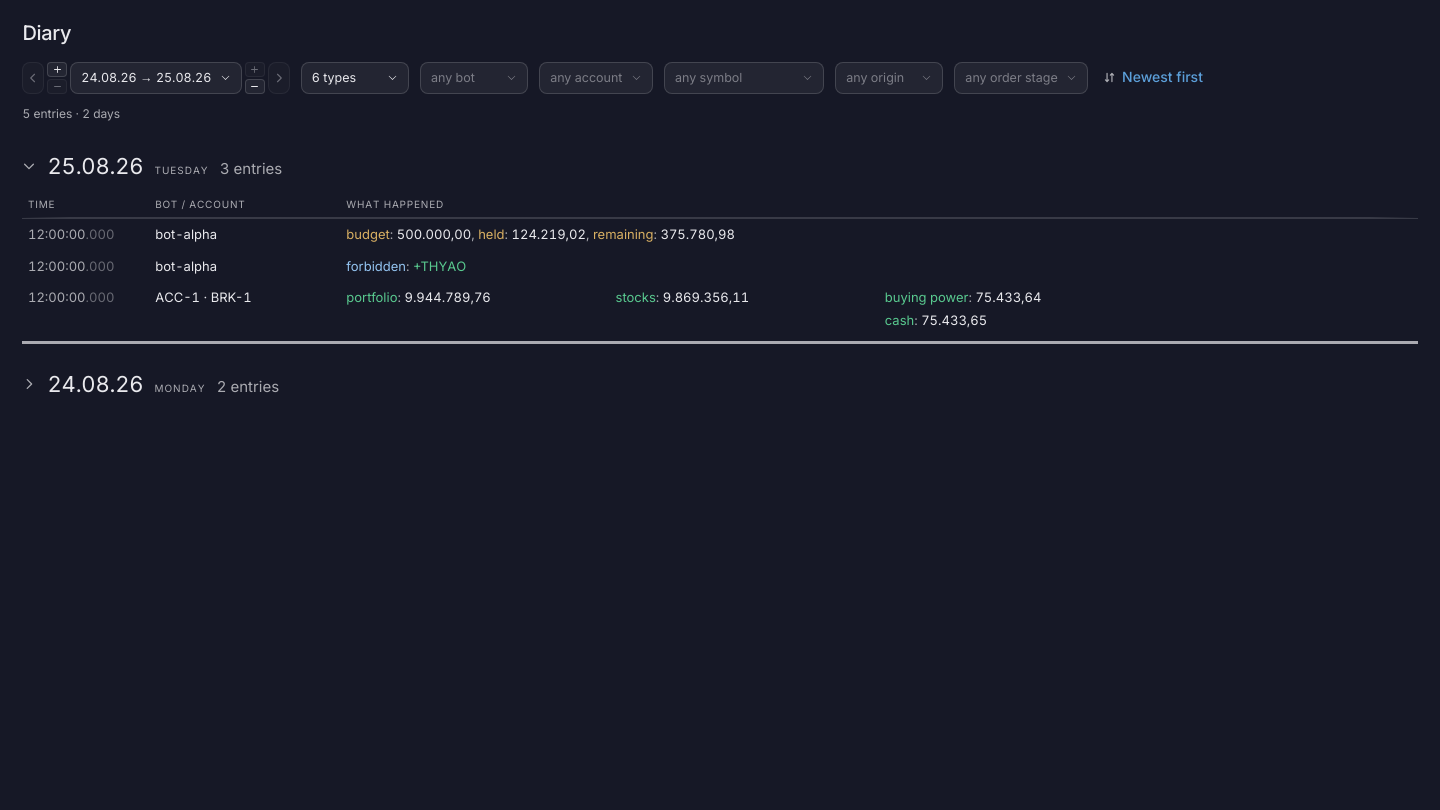
Test: Diary toolbar › opens with every type ticked and drops a kind when one is unticked
Check: the text "25.08.26" is shown, box [48,148,143,183]
Check: the message reads "5 entries · 2 days", box [22,106,120,121]
Click the button "6 types" at (355, 78), box [301,62,409,94]
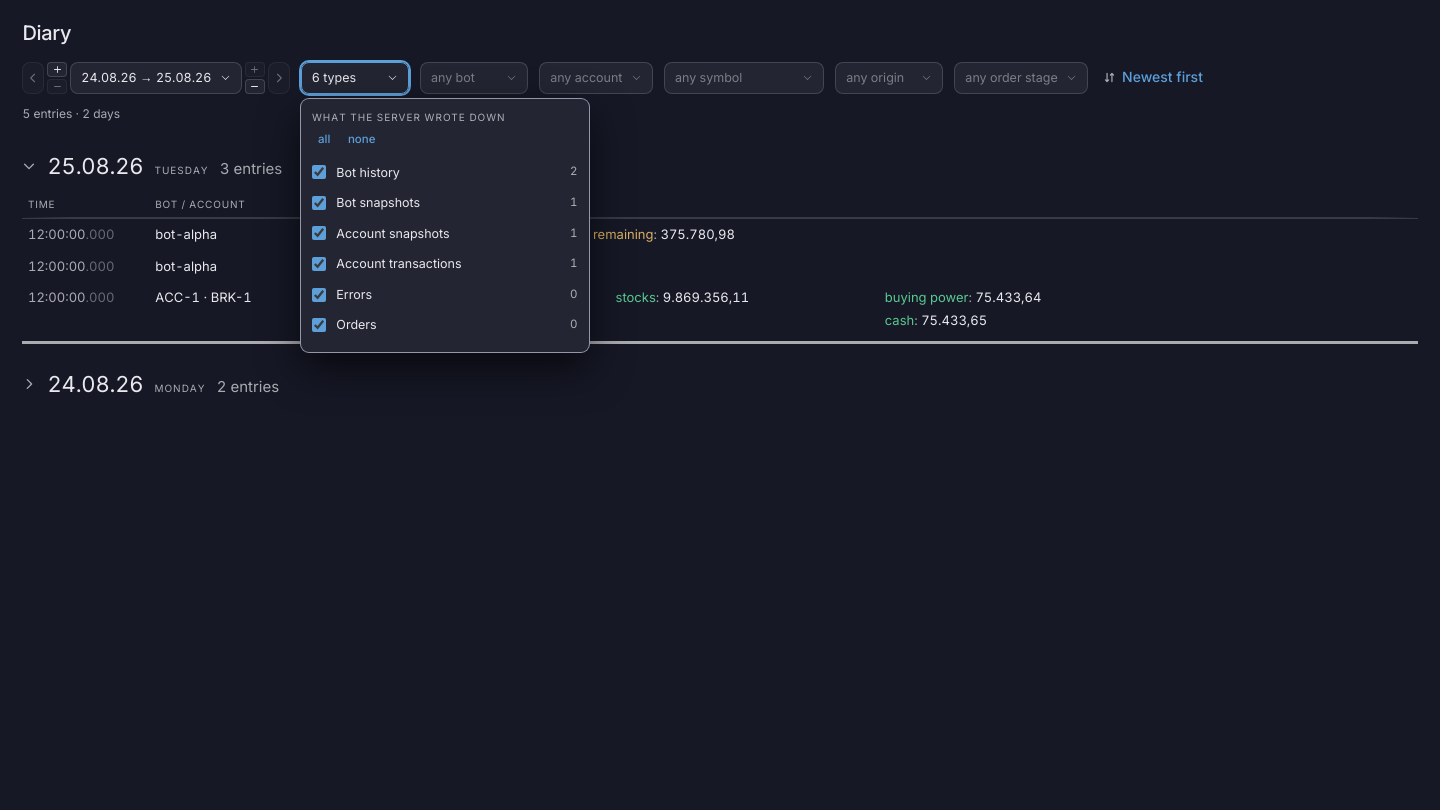
Click the checkbox labelled "Account transactions 1" at (319, 264), box [312,257,326,271]
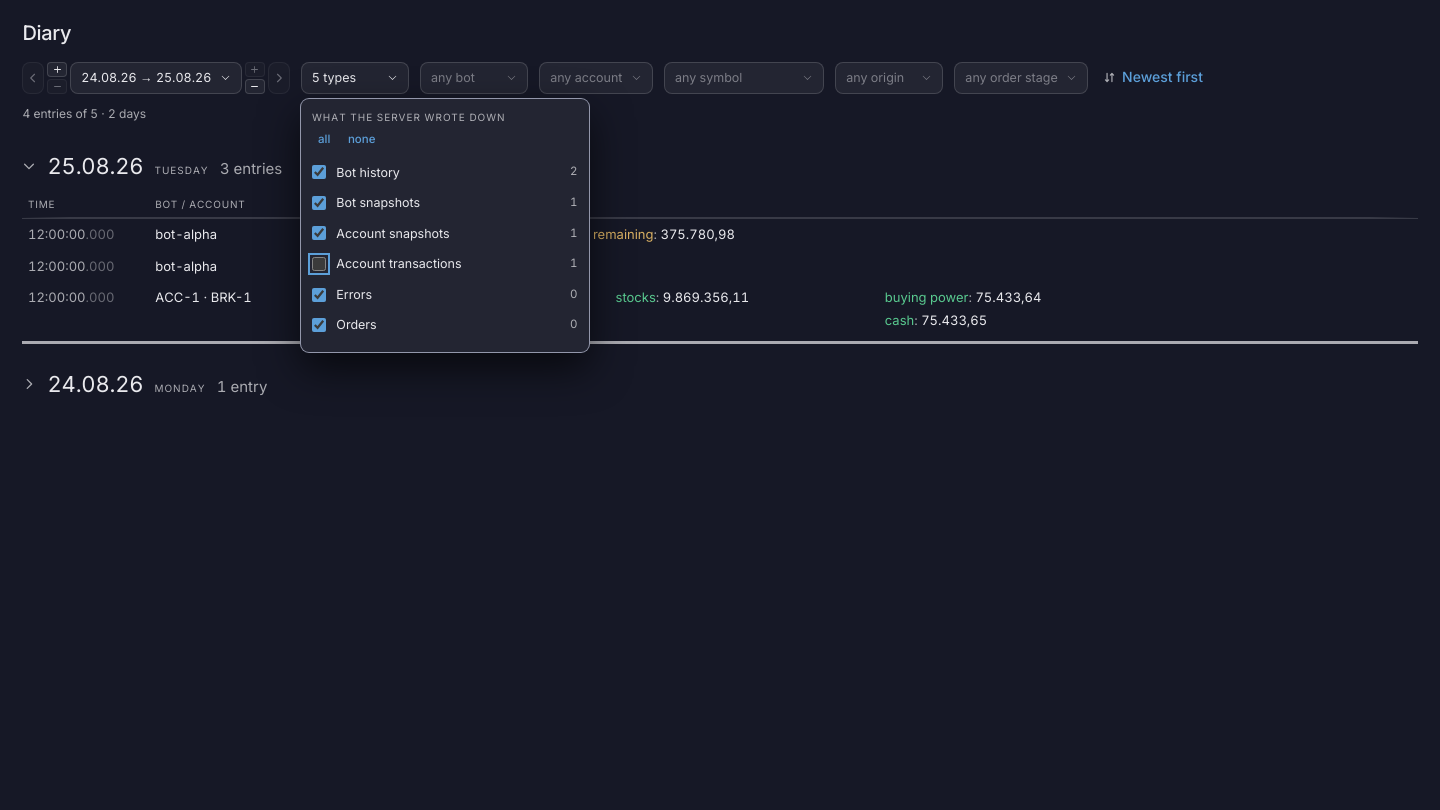
Check: the button "5 types" is shown, box [301,62,409,94]
Check: the message shows "4 entries of 5", box [22,106,98,121]
